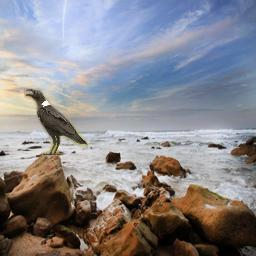Crow: (24, 88, 88, 156)
